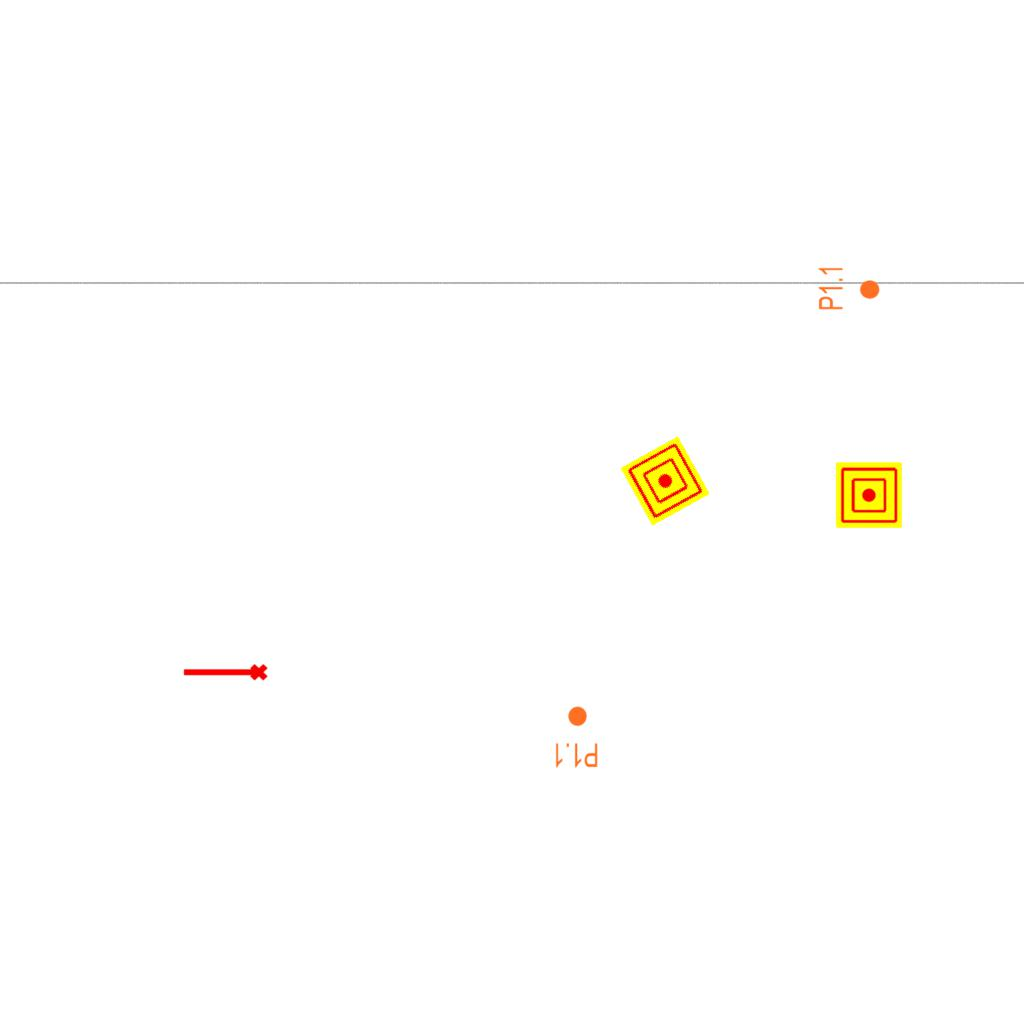ASR_Ansaugoeffnung: (181, 662, 269, 685)
Downlight_LED_Einbauleuchten_Flur: (553, 705, 599, 769), (817, 265, 881, 311)
NAM-Nichtautomatischer_Melder: (620, 436, 710, 526), (836, 462, 902, 528)
